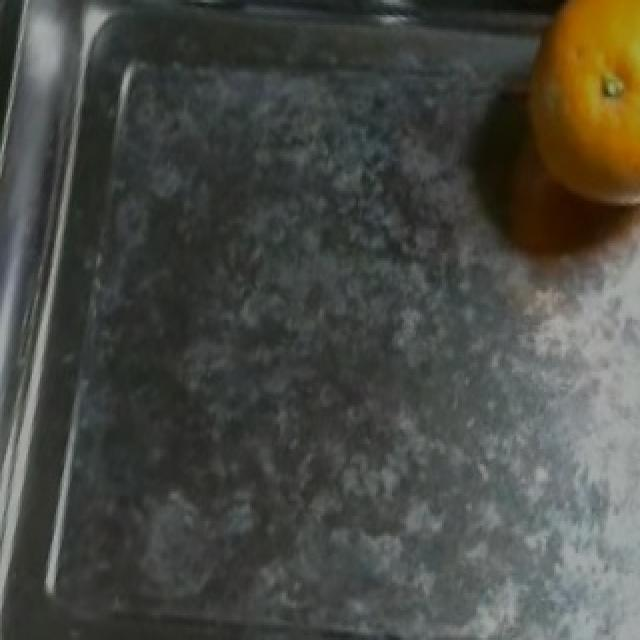Fruit: (532, 2, 640, 236)
